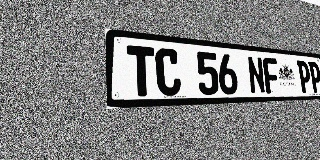5: (196, 51, 220, 95)
6: (217, 53, 238, 95)
C: (155, 48, 182, 96)
F: (262, 57, 280, 94)
N: (247, 56, 266, 94)
P: (297, 60, 312, 93), (308, 61, 320, 93)
T: (127, 45, 156, 97)
